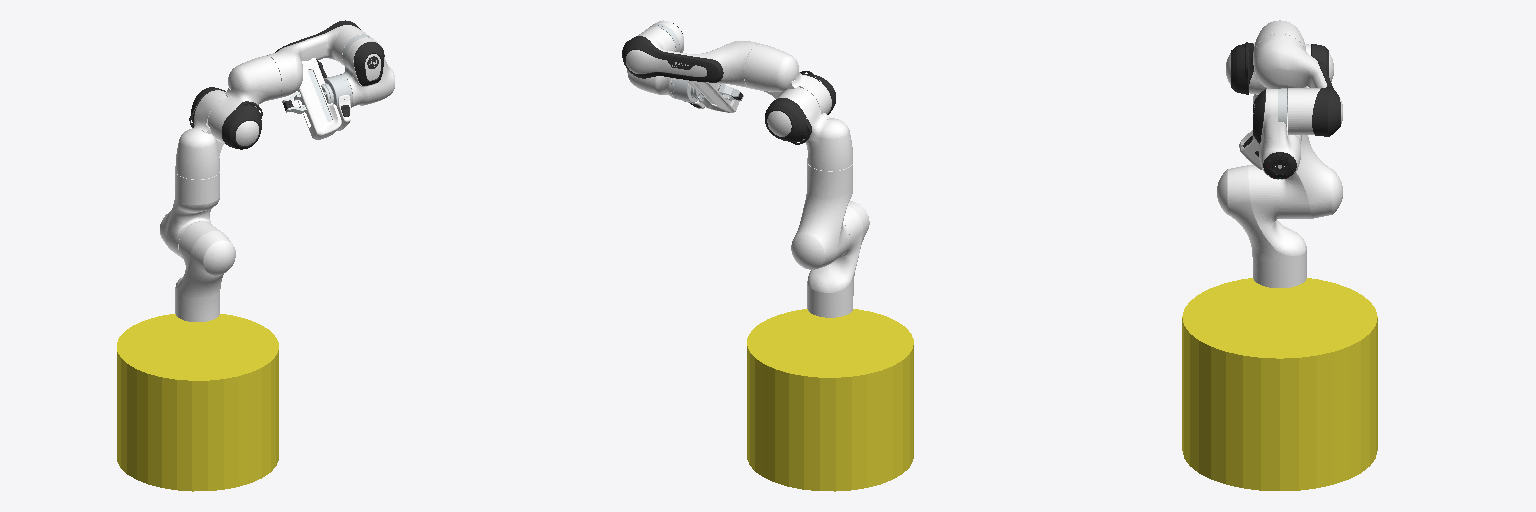
The robot description file, URDF, robot "omniPanda":
<?xml version="1.0"?>
<!-- =================================================================================== -->
<!-- |    This document was autogenerated by xacro from panda_arm.urdf.xacro           | -->
<!-- |    EDITING THIS FILE BY HAND IS NOT RECOMMENDED                                 | -->
<!-- =================================================================================== -->
<robot name="omniPanda">
  <link name="world"/>
  <link name="base_link_x">
    <inertial>
      <mass value="1.0"/>
      <origin rpy="0 0 0" xyz="0 0 0"/>
      <inertia ixx="1.0" ixy="0.0" ixz="0.0" iyy="1.0" iyz="0.0" izz="1.0"/>
    </inertial>
  </link>
  <link name="base_link_y">
    <inertial>
      <mass value="1.0"/>
      <origin rpy="0 0 0" xyz="0 0 0"/>
      <inertia ixx="1.0" ixy="0.0" ixz="0.0" iyy="1.0" iyz="0.0" izz="1.0"/>
    </inertial>
  </link>
  <link name="base_link">
    <inertial>
      <mass value="100.0"/>
      <origin rpy="0 0 0" xyz="0 0 0"/>
      <inertia ixx="1.0" ixy="0.0" ixz="0.0" iyy="1.0" iyz="0.0" izz="1.0"/>
    </inertial>
    <collision>
      <origin rpy="0.0 0 0" xyz="0 0 0"/>
      <geometry>
          <cylinder length="0.3" radius="0.2"/>
      </geometry>
    </collision>
    <visual>
      <origin rpy="0.0 0 0" xyz="0 0 0"/>
      <geometry>
          <cylinder length="0.3" radius="0.2"/>
      </geometry>
    </visual>
  </link>
  <joint name="omni_joint_x" type="prismatic">
    <safety_controller k_position="100.0" k_velocity="40.0" soft_lower_limit="-500" soft_upper_limit="500"/>
    <parent link="world"/>
    <child link="base_link_x"/>
    <origin rpy="0 0 0" xyz="0 0 0.15"/>
    <axis xyz="1 0 0"/>
    <limit effort="1000" lower="-500" upper="500" velocity="500"/>
  </joint>
  <joint name="omni_joint_y" type="prismatic">
    <safety_controller k_position="100.0" k_velocity="40.0" soft_lower_limit="-500" soft_upper_limit="500"/>
    <parent link="base_link_x"/>
    <child link="base_link_y"/>
    <origin rpy="0 0 0" xyz="0 0 0"/>
    <axis xyz="0 1 0"/>
    <limit effort="1000" lower="-500" upper="500" velocity="500"/>
  </joint>
  <joint name="omni_joint_theta" type="revolute">
    <safety_controller k_position="100.0" k_velocity="40.0" soft_lower_limit="-500" soft_upper_limit="500"/>
    <parent link="base_link_y"/>
    <child link="base_link"/>
    <origin rpy="0 0 0" xyz="0 0 0"/>
    <axis xyz="0 0 1"/>
    <limit effort="1000" lower="-500" upper="500" velocity="500"/>
  </joint>
  <link name="panda_link0">
    <inertial>
      <mass value="2.92"/>
      <origin rpy="0 0 0" xyz="-0.025566 -2.88e-05 0.057332"/>
      <inertia ixx="0.00782229414331" ixy="-1.56191622996e-05" ixz="-0.00126005738123" iyy="0.0109027971813" iyz="1.08233858202e-05" izz="0.0102355503949"/>
    </inertial>
    <visual>
      <origin rpy="0 0 0" xyz="0 0 0"/>
      <geometry>
        <mesh filename="meshes/visual/link0.dae"/>
      </geometry>
      <material name="">
        <color rgba="1 1 1 1"/>
      </material>
    </visual>
    <collision>
      <origin rpy="0 0 0" xyz="0 0 0"/>
      <geometry>
        <mesh filename="meshes/collision/link0.stl"/>
      </geometry>
    </collision>
  </link>
  <joint name="panda_joint_base" type="fixed">
    <parent link="base_link"/>
    <child link="panda_link0"/>
    <origin rpy="0 0 0" xyz="0 0 0.1"/>
  </joint>
  <link name="panda_link1">
    <visual>
      <geometry>
        <mesh filename="package://panda_isaac/meshes/visual/link1.dae"/>
      </geometry>
    </visual>
    <collision>
      <geometry>
        <mesh filename="package://panda_isaac/meshes/collision/link1.obj"/>
      </geometry>
    </collision>
  </link>
  <joint name="panda_joint1" type="revolute">
    <safety_controller k_position="100.0" k_velocity="40.0" soft_lower_limit="-2.8973" soft_upper_limit="2.8973"/>
    <origin rpy="0 0 0" xyz="0 0 0.333"/>
    <parent link="panda_link0"/>
    <child link="panda_link1"/>
    <axis xyz="0 0 1"/>
    <dynamics damping="10.0"/>
    <limit effort="87" lower="-2.8973" upper="2.8973" velocity="2.1750"/>
  </joint>
  <link name="panda_link2">
    <visual>
      <geometry>
        <mesh filename="package://panda_isaac/meshes/visual/link2.dae"/>
      </geometry>
    </visual>
    <collision>
      <geometry>
        <mesh filename="package://panda_isaac/meshes/collision/link2.obj"/>
      </geometry>
    </collision>
  </link>
  <joint name="panda_joint2" type="revolute">
    <safety_controller k_position="100.0" k_velocity="40.0" soft_lower_limit="-1.7628" soft_upper_limit="1.7628"/>
    <origin rpy="-1.57079632679 0 0" xyz="0 0 0"/>
    <parent link="panda_link1"/>
    <child link="panda_link2"/>
    <axis xyz="0 0 1"/>
    <dynamics damping="10.0"/>
    <limit effort="87" lower="-1.7628" upper="1.7628" velocity="2.1750"/>
  </joint>
  <link name="panda_link3">
    <visual>
      <geometry>
        <mesh filename="package://panda_isaac/meshes/visual/link3.dae"/>
      </geometry>
    </visual>
    <collision>
      <geometry>
        <mesh filename="package://panda_isaac/meshes/collision/link3.obj"/>
      </geometry>
    </collision>
  </link>
  <joint name="panda_joint3" type="revolute">
    <safety_controller k_position="100.0" k_velocity="40.0" soft_lower_limit="-2.8973" soft_upper_limit="2.8973"/>
    <origin rpy="1.57079632679 0 0" xyz="0 -0.316 0"/>
    <parent link="panda_link2"/>
    <child link="panda_link3"/>
    <axis xyz="0 0 1"/>
    <dynamics damping="10.0"/>
    <limit effort="87" lower="-2.8973" upper="2.8973" velocity="2.1750"/>
  </joint>
  <link name="panda_link4">
    <visual>
      <geometry>
        <mesh filename="package://panda_isaac/meshes/visual/link4.dae"/>
      </geometry>
    </visual>
    <collision>
      <geometry>
        <mesh filename="package://panda_isaac/meshes/collision/link4.obj"/>
      </geometry>
    </collision>
  </link>
  <joint name="panda_joint4" type="revolute">
    <safety_controller k_position="100.0" k_velocity="40.0" soft_lower_limit="-3.0718" soft_upper_limit="-0.0698"/>
    <origin rpy="1.57079632679 0 0" xyz="0.0825 0 0"/>
    <parent link="panda_link3"/>
    <child link="panda_link4"/>
    <axis xyz="0 0 1"/>    
    <dynamics damping="10.0"/>
    <limit effort="87" lower="-3.0718" upper="-0.0698" velocity="2.1750"/>
    <!-- something is weird with this joint limit config
    <dynamics damping="10.0"/>
    <limit effort="87" lower="-3.0" upper="0.087" velocity="2.1750"/>  -->
  </joint>
  <link name="panda_link5">
    <visual>
      <geometry>
        <mesh filename="package://panda_isaac/meshes/visual/link5.dae"/>
      </geometry>
    </visual>
    <collision>
      <geometry>
        <mesh filename="package://panda_isaac/meshes/collision/link5.obj"/>
      </geometry>
    </collision>
  </link>
  <joint name="panda_joint5" type="revolute">
    <safety_controller k_position="100.0" k_velocity="40.0" soft_lower_limit="-2.8973" soft_upper_limit="2.8973"/>
    <origin rpy="-1.57079632679 0 0" xyz="-0.0825 0.384 0"/>
    <parent link="panda_link4"/>
    <child link="panda_link5"/>
    <axis xyz="0 0 1"/>
    <dynamics damping="10.0"/>
    <limit effort="12" lower="-2.8973" upper="2.8973" velocity="2.6100"/>
  </joint>
  <link name="panda_link6">
    <visual>
      <geometry>
        <mesh filename="package://panda_isaac/meshes/visual/link6.dae"/>
      </geometry>
    </visual>
    <collision>
      <geometry>
        <mesh filename="package://panda_isaac/meshes/collision/link6.obj"/>
      </geometry>
    </collision>
  </link>
  <joint name="panda_joint6" type="revolute">
    <safety_controller k_position="100.0" k_velocity="40.0" soft_lower_limit="-0.0175" soft_upper_limit="3.7525"/>
    <origin rpy="1.57079632679 0 0" xyz="0 0 0"/>
    <parent link="panda_link5"/>
    <child link="panda_link6"/>
    <axis xyz="0 0 1"/>
    <dynamics damping="10.0"/>
    <limit effort="12" lower="-0.0175" upper="3.7525" velocity="2.6100"/>
    <!-- <dynamics damping="10.0"/>
    <limit effort="12" lower="-0.0873" upper="3.0" velocity="2.6100"/> -->
  </joint>
  <link name="panda_link7">
    <visual>
      <geometry>
        <mesh filename="package://panda_isaac/meshes/visual/link7.dae"/>
      </geometry>
    </visual>
    <collision>
      <geometry>
        <mesh filename="package://panda_isaac/meshes/collision/link7.obj"/>
      </geometry>
    </collision>
  </link>
  <joint name="panda_joint7" type="revolute">
    <safety_controller k_position="100.0" k_velocity="40.0" soft_lower_limit="-2.8973" soft_upper_limit="2.8973"/>
    <origin rpy="1.57079632679 0 0" xyz="0.088 0 0"/>
    <parent link="panda_link6"/>
    <child link="panda_link7"/>
    <axis xyz="0 0 1"/>
    <dynamics damping="10.0"/>
    <limit effort="12" lower="-2.8973" upper="2.8973" velocity="2.6100"/>
  </joint>

  <link name="panda_ee_finger"/>
  <joint name="panda_ee_finger" type="fixed">
    <origin rpy="0 0 0" xyz="0 0 0.207"/>
    <parent link="panda_link7"/>
    <child link="panda_ee_finger"/>
    <axis xyz="0 0 0"/>
  </joint>

  <joint name="panda_hand_joint" type="fixed">
    <!--
    <parent link="panda_link8"/>
    -->
    <parent link="panda_link7"/>
    <child link="panda_hand"/>
    <origin rpy="0 0 -0.785398163397" xyz="0 0 0.107"/>
    <!--
    <origin rpy="0 0 -0.785398163397" xyz="0 0 0"/>
    -->
  </joint>
  <link name="panda_hand">
    <visual>
      <geometry>
        <mesh filename="package://panda_isaac/meshes/visual/hand.dae"/>
      </geometry>
    </visual>
    <collision>
      <geometry>
        <mesh filename="package://panda_isaac/meshes/collision/hand.obj"/>
      </geometry>
    </collision>
  </link>
  <link name="panda_leftfinger">
    <visual>
      <geometry>
        <mesh filename="package://panda_isaac/meshes/visual/finger.dae"/>
      </geometry>
    </visual>
    <collision>
      <geometry>
        <mesh filename="package://panda_isaac/meshes/collision/finger.obj"/>
      </geometry>
      <surface>
        <friction>
          <ode>
            <mu>100000.0</mu>
            <mu2>100000.0</mu2>
          </ode>
        </friction>
        <contact>
          <ode>
            <min_depth>0.005</min_depth>
          </ode>
        </contact>
      </surface>
    </collision>
  </link>
  <link name="panda_rightfinger">
    <visual>
      <origin rpy="0 0 3.14159265359" xyz="0 0 0"/>
      <geometry>
        <mesh filename="package://panda_isaac/meshes/visual/finger.dae"/>
      </geometry>
    </visual>
    <collision>
      <origin rpy="0 0 3.14159265359" xyz="0 0 0"/>
      <geometry>
        <mesh filename="package://panda_isaac/meshes/collision/finger.obj"/>
        <surface>
        <friction>
          <ode>
            <mu>100000.0</mu>
            <mu2>100000.0</mu2>
          </ode>
        </friction>
        <contact>
          <ode>
            <min_depth>0.005</min_depth>
          </ode>
        </contact>
      </surface>
      </geometry>
    </collision>
  </link>
  <joint name="panda_finger_joint1" type="prismatic">
    <parent link="panda_hand"/>
    <child link="panda_leftfinger"/>
    <origin rpy="0 0 0" xyz="0 0 0.0584"/>
    <axis xyz="0 1 0"/>
    <dynamics damping="10.0"/>
    <limit effort="20" lower="0.0" upper="0.04" velocity="0.2"/>
  </joint>
  <joint name="panda_finger_joint2" type="prismatic">
    <parent link="panda_hand"/>
    <child link="panda_rightfinger"/>
    <origin rpy="0 0 0" xyz="0 0 0.0584"/>
    <axis xyz="0 -1 0"/>
    <dynamics damping="10.0"/>
    <limit effort="20" lower="0.0" upper="0.04" velocity="0.2"/>
    <mimic joint="panda_finger_joint1"/>
  </joint>
</robot>

--- Facts derived from the render (not from the file) ---
The picture shows the robot from 3 angles, left to right: view 1: azimuth 30°, elevation 25°; view 2: azimuth 150°, elevation 25°; view 3: azimuth 270°, elevation 25°; orthographic projection.
Model omniPanda with 16 links and 15 joints (8 revolute, 4 prismatic, 3 fixed), rooted at world, posed all joints at 0 but 1 set to mid-range because 0 is outside their limits (panda_joint4 = -1.57).
Links seen in each view (by area): view 1: base_link, panda_link1, panda_link4, panda_link3, panda_link5, panda_link6, panda_link2, panda_hand, panda_link7; view 2: base_link, panda_link5, panda_link2, panda_link3, panda_link1, panda_link4, panda_link6, panda_hand; view 3: base_link, panda_link1, panda_link5, panda_link2, panda_link6, panda_link4.
Boxes of the visible links, box(x1,y1,x2,y2) form: base_link: box(117, 314, 278, 491); panda_link1: box(175, 221, 235, 321); panda_link4: box(208, 55, 281, 149); panda_link3: box(175, 87, 226, 179); panda_link5: box(267, 20, 368, 98); panda_link6: box(340, 35, 394, 107); panda_link2: box(160, 171, 219, 258); panda_hand: box(296, 58, 341, 139); panda_link7: box(323, 75, 352, 130); base_link: box(747, 309, 913, 491); panda_link5: box(622, 27, 759, 87); panda_link2: box(791, 162, 852, 269); panda_link3: box(765, 87, 852, 170); panda_link1: box(807, 201, 869, 317); panda_link4: box(744, 44, 835, 114); panda_link6: box(627, 20, 683, 98); panda_hand: box(685, 80, 739, 112); base_link: box(1182, 278, 1377, 490); panda_link1: box(1217, 165, 1306, 287); panda_link5: box(1253, 34, 1342, 136); panda_link2: box(1280, 135, 1342, 218); panda_link6: box(1253, 88, 1300, 179); panda_link4: box(1226, 20, 1305, 94).
Bounding box of the posed robot: 0.7482 × 0.4 × 1.04 m (x, y, z).
Meshes: 10 distinct files referenced, 10 mesh visuals loaded (9 Collada DAE); not drawn: 1 (reference not matched to a file when rendering).